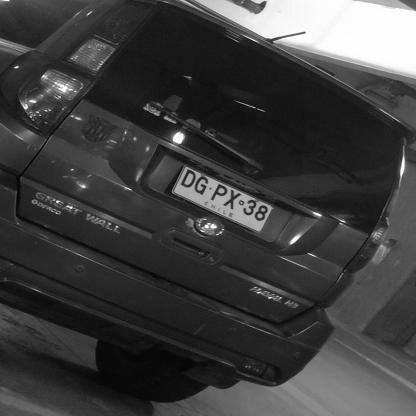Patente: (169, 165, 281, 235)
